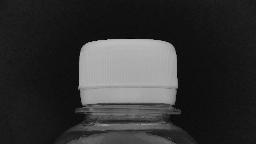Good Cap: (70, 36, 186, 118)
